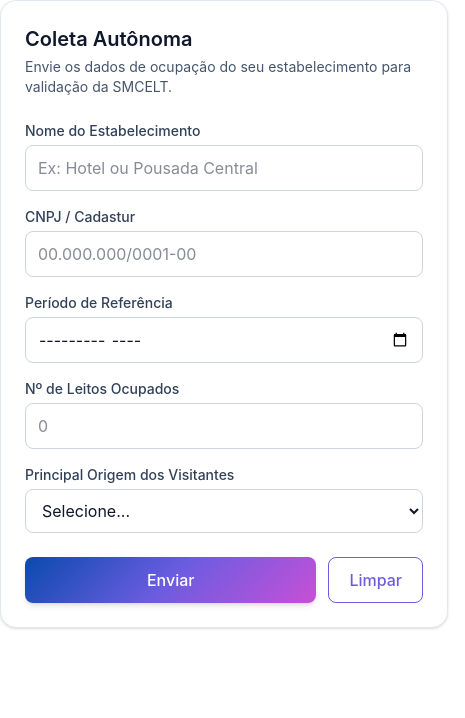
Scenario: ColetaAutonomaForm › deve redefinir campos e erros ao clicar no botão "Limpar"
Note: Clica em enviar com form vazio para disparar erros
Click the button "Enviar". click: (171, 580)
box: x1=25 y1=557 x2=316 y2=603
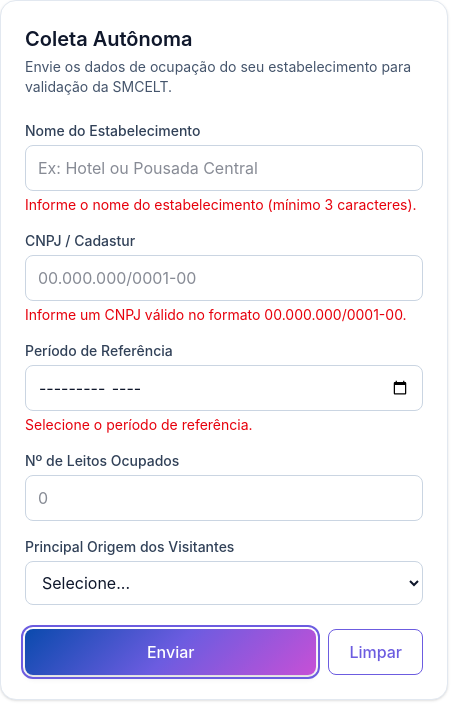
Expected: the text "Informe o nome do estabelecimento (mínimo 3 caracteres)." is shown, x1=25 y1=195 x2=423 y2=215
Note: Preenche campos
Type "Hotel Teste" into the field labelled "Nome do Estabelecimento". click: (224, 168)
box: x1=25 y1=145 x2=423 y2=191
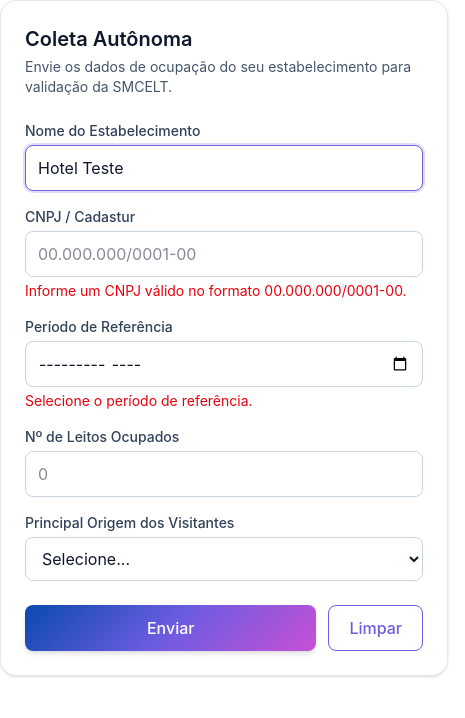
Type "12345678000195" into the field labelled "CNPJ / Cadastur". click: (224, 254)
box: x1=25 y1=231 x2=423 y2=277
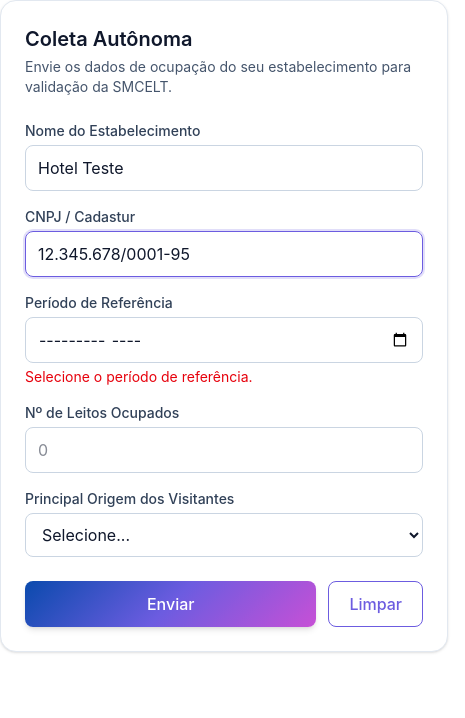
Expected: the field labelled "CNPJ / Cadastur" holds "12.345.678/0001-95", x1=25 y1=231 x2=423 y2=277
Note: Clica no botão Limpar
Click the button "Limpar". click: (376, 604)
box: x1=328 y1=581 x2=423 y2=627
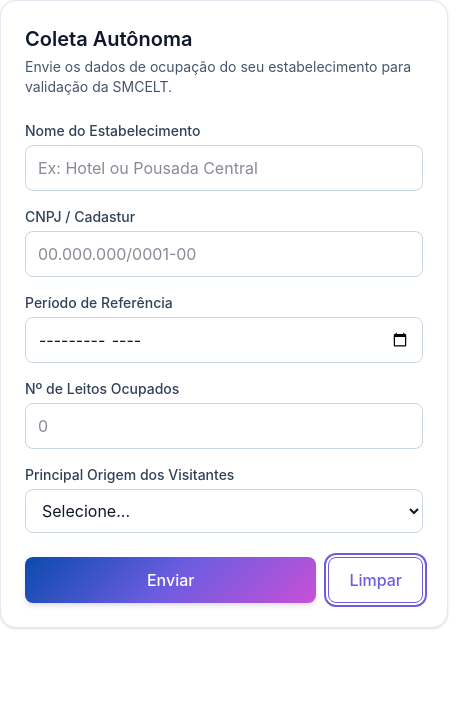
Expected: the text "Informe o nome do estabelecimento (mínimo 3 caracteres)." is not shown
Expected: the field labelled "Nome do Estabelecimento" is empty, x1=25 y1=145 x2=423 y2=191
Expected: the field labelled "CNPJ / Cadastur" is empty, x1=25 y1=231 x2=423 y2=277
